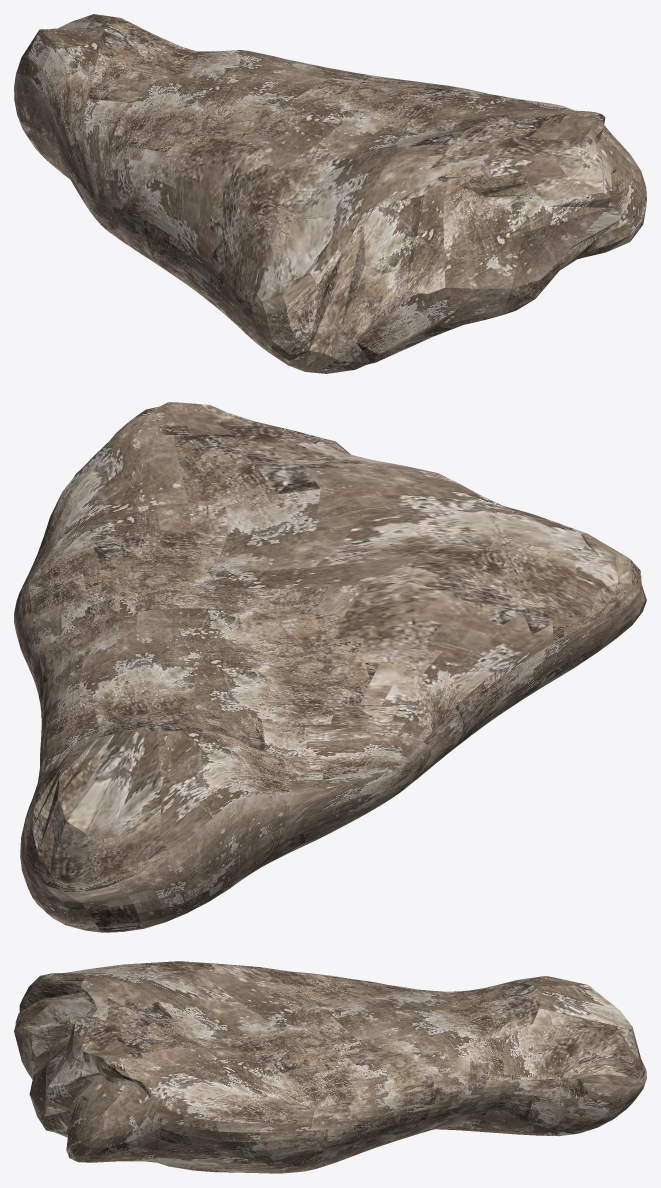
File: Roca1.fbx
3 renders of one model, top to bottom at view 1: azimuth 30°, elevation 25°; view 2: azimuth 150°, elevation 25°; view 3: azimuth 270°, elevation 25°, orthographic. The views are drawn at different scales.
Parts seen in each view (by area): view 1: Escombro7; view 2: Escombro7; view 3: Escombro7.
Boxes of the visible parts, x1,y1,x2,y2 form: Escombro7: (14, 14, 646, 373); Escombro7: (14, 402, 646, 932); Escombro7: (14, 961, 646, 1173).
Bounding box in the file's own units: 300 × 132 × 467.
